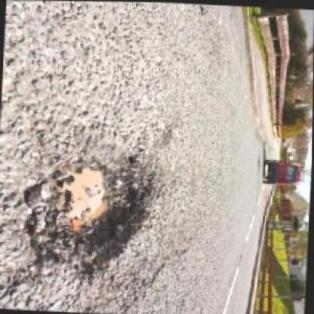Hueco: (15, 141, 159, 279)
